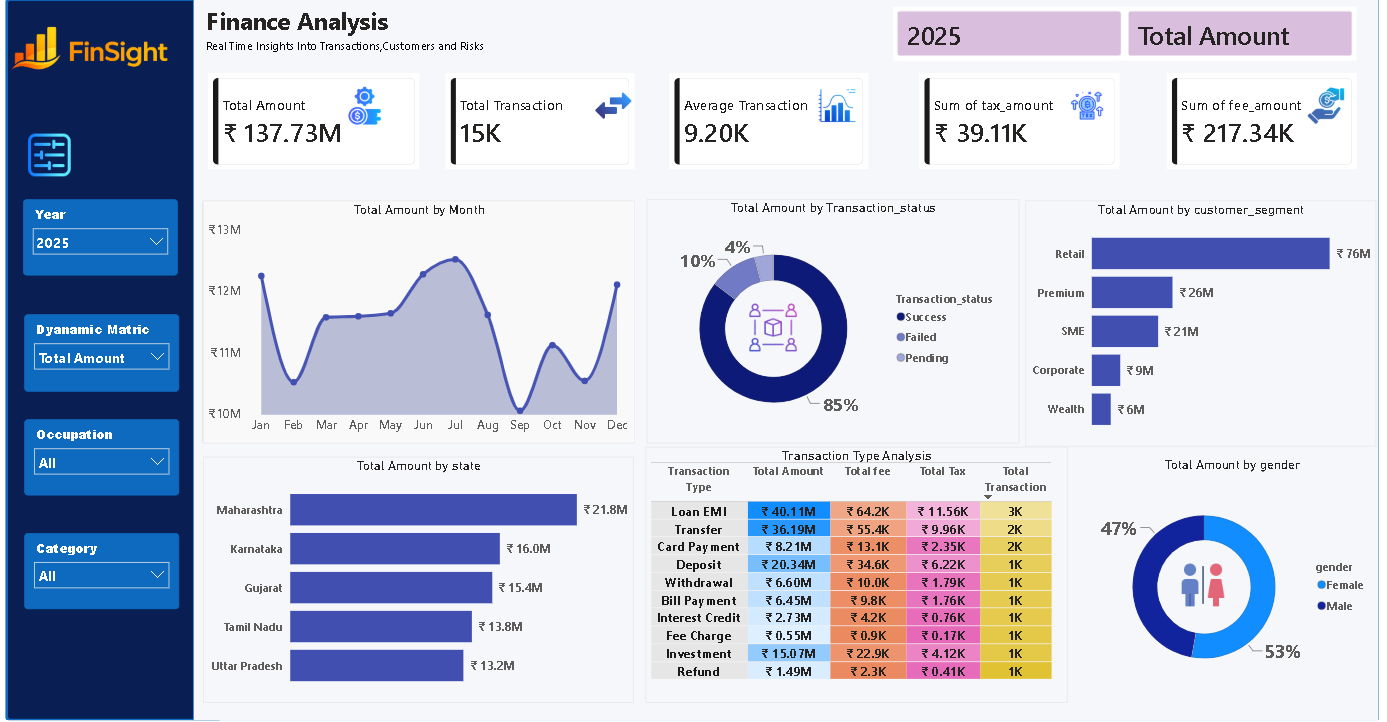

The page's visual inventory and layout, read from the dashboard file:
{"tool":"powerbi","page":{"name":"Finance Analysis","canvas":[1800,950],"ordinal":0},"visuals":[{"type":"shape","box":[16.4,6.5,279.6,933.7],"z":0},{"type":"shape","box":[258.4,6.5,1530.5,933.7],"z":1000},{"type":"image","box":[16.4,22.9,222.4,98.1],"z":2000},{"type":"cardVisual","fields":{"Data":["finance_transactions.Dashboard Title"]},"box":[258.4,6.5,407.2,80.1],"z":3000},{"type":"cardVisual","fields":{"Data":["finance_transactions.Total Amount","finance_transactions.Total Amount"]},"box":[278,103,273.1,124.3],"z":4000},{"type":"slicer","fields":{"Values":["calender.Year"]},"box":[38.7,266.2,200.1,98.4],"z":5000},{"type":"cardVisual","fields":{"Data":["finance_transactions.Total Transaction"]},"box":[583.8,103,243.6,124.3],"z":6000},{"type":"cardVisual","fields":{"Data":["finance_transactions.Average Transaction"]},"box":[873.2,103,256.7,124.3],"z":7000},{"type":"cardVisual","fields":{"Data":["Sum(finance_transactions.tax_amount)"]},"box":[1195.3,103,258.4,124.3],"z":8000},{"type":"cardVisual","fields":{"Data":["Sum(finance_transactions.fee_amount)"]},"box":[1515.8,103,245.3,124.3],"z":9000},{"type":"image","box":[1371.9,121,81.8,49.1],"z":10000},{"type":"image","box":[438.2,121,81.8,49.1],"z":11000},{"type":"image","box":[760.4,121,81.8,49.1],"z":12000},{"type":"image","box":[1679.3,121,81.8,49.1],"z":13000},{"type":"image","box":[1048.1,121,81.8,49.1],"z":14000},{"type":"slicer","fields":{"Values":["Dyanamic Matric.Dyanamic Matric"]},"box":[40.3,414.7,200.1,100],"z":15000},{"type":"shape","box":[269.8,268.2,557.6,314],"z":16000},{"type":"areaChart","fields":{"Y":["finance_transactions.Total Amount"],"Category":["calender.Month"]},"box":[271.4,268.2,557.6,314],"z":17000},{"type":"cardVisual","fields":{"Data":["finance_transactions.Selected Year","finance_transactions.Selected Dynamic Matric"]},"box":[1161.7,17.7,598.6,69.4],"z":18000},{"type":"donutChart","fields":{"Y":["finance_transactions.Total Amount"],"Category":["finance_transactions.transaction_status"]},"box":[843.8,266.5,480.7,315.6],"z":19000},{"type":"clusteredBarChart","fields":{"Y":["finance_transactions.Total Amount"],"Category":["customers.customer_segment"]},"box":[1332.7,268.2,452.9,317.2],"z":20000},{"type":"barChart","fields":{"Y":["finance_transactions.Total Amount"],"Category":["customers.state"]},"box":[271.4,598.5,556,317.2],"z":21000},{"type":"tableEx","title":"Transaction Type Analysis","fields":{"Values":["finance_transactions.transaction_type","finance_transactions.Total Amount","finance_transactions.Total fee","finance_transactions.Total Tax","finance_transactions.Total Transaction"]},"box":[842.1,585.4,544.5,330.3],"z":22000},{"type":"donutChart","fields":{"Y":["finance_transactions.Total Amount"],"Category":["customers.gender"]},"box":[1412.8,598.5,372.8,317.2],"z":23000},{"type":"image","box":[1519.9,732.5,83.9,62.9],"z":24000},{"type":"image","box":[964.8,398.5,83.9,66.2],"z":25000},{"type":"slicer","fields":{"Values":["customers.occupation"]},"box":[40.3,550.2,200.1,98.4],"z":26000},{"type":"slicer","fields":{"Values":["finance_transactions.merchant_category"]},"box":[40.3,697,200.1,98.4],"z":27000},{"type":"image","box":[29,177.5,87.1,62.9],"z":28000}]}

Visuals, with their boxes in screenshot pixels (x1, y1, x2, y2), scaled from the page's 1800x950 canvas onto the 1387x722 screenshot:
shape: Rect(13, 5, 228, 715)
shape: Rect(199, 5, 1378, 715)
image: Rect(13, 17, 184, 92)
cardVisual - finance_transactions.Dashboard Title: Rect(199, 5, 513, 66)
cardVisual - finance_transactions.Total Amount x finance_transactions.Total Amount: Rect(214, 78, 425, 173)
slicer - calender.Year: Rect(30, 202, 184, 277)
cardVisual - finance_transactions.Total Transaction: Rect(450, 78, 638, 173)
cardVisual - finance_transactions.Average Transaction: Rect(673, 78, 871, 173)
cardVisual - Sum(finance_transactions.tax_amount): Rect(921, 78, 1120, 173)
cardVisual - Sum(finance_transactions.fee_amount): Rect(1168, 78, 1357, 173)
image: Rect(1057, 92, 1120, 129)
image: Rect(338, 92, 401, 129)
image: Rect(586, 92, 649, 129)
image: Rect(1294, 92, 1357, 129)
image: Rect(808, 92, 871, 129)
slicer - Dyanamic Matric.Dyanamic Matric: Rect(31, 315, 185, 391)
shape: Rect(208, 204, 638, 442)
areaChart - finance_transactions.Total Amount x calender.Month: Rect(209, 204, 639, 442)
cardVisual - finance_transactions.Selected Year x finance_transactions.Selected Dynamic Matric: Rect(895, 13, 1356, 66)
donutChart - finance_transactions.Total Amount x finance_transactions.transaction_status: Rect(650, 203, 1021, 442)
clusteredBarChart - finance_transactions.Total Amount x customers.customer_segment: Rect(1027, 204, 1376, 445)
barChart - finance_transactions.Total Amount x customers.state: Rect(209, 455, 638, 696)
"Transaction Type Analysis" tableEx: Rect(649, 445, 1068, 696)
donutChart - finance_transactions.Total Amount x customers.gender: Rect(1089, 455, 1376, 696)
image: Rect(1171, 557, 1236, 605)
image: Rect(743, 303, 808, 353)
slicer - customers.occupation: Rect(31, 418, 185, 493)
slicer - finance_transactions.merchant_category: Rect(31, 530, 185, 605)
image: Rect(22, 135, 89, 183)
